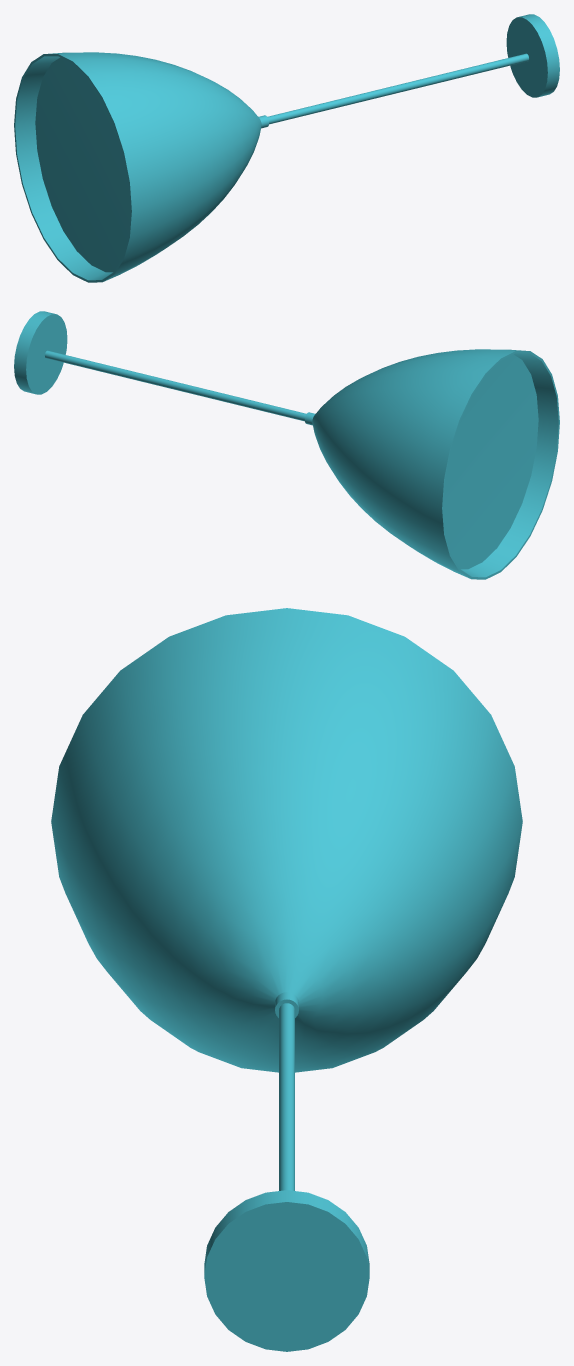
The picture shows the model from 3 angles, top to bottom: view 1: azimuth 30°, elevation 25°; view 2: azimuth 150°, elevation 25°; view 3: azimuth 270°, elevation 25°; orthographic projection. The views are drawn at different scales.
Visible parts, largest first — view 1: Renderer Node; view 2: Renderer Node; view 3: Renderer Node.
Boxes of the visible parts, bbox=[...] form: Renderer Node: bbox=[14, 14, 559, 282]; Renderer Node: bbox=[14, 311, 559, 579]; Renderer Node: bbox=[51, 608, 522, 1351].
Size of the model in its own units: 0.8501 by 0.3723 by 0.3723.
1 material, 1 textured.
